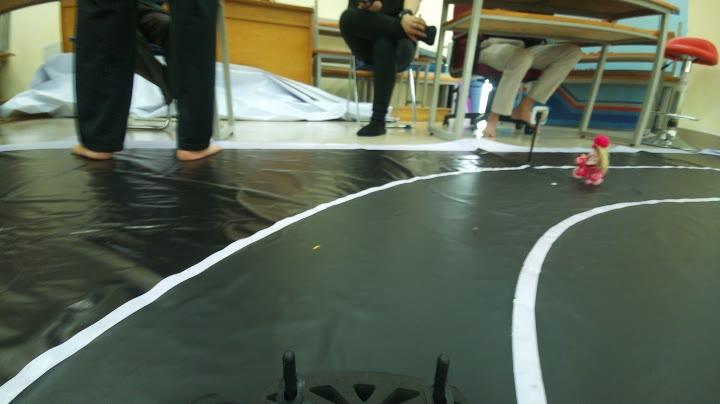pedestrian: (576, 128, 612, 190)
